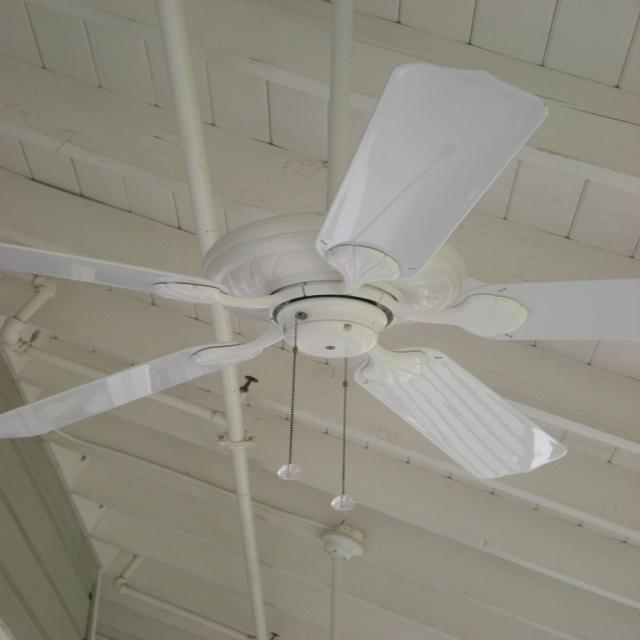fan_off: (0, 64, 640, 475)
